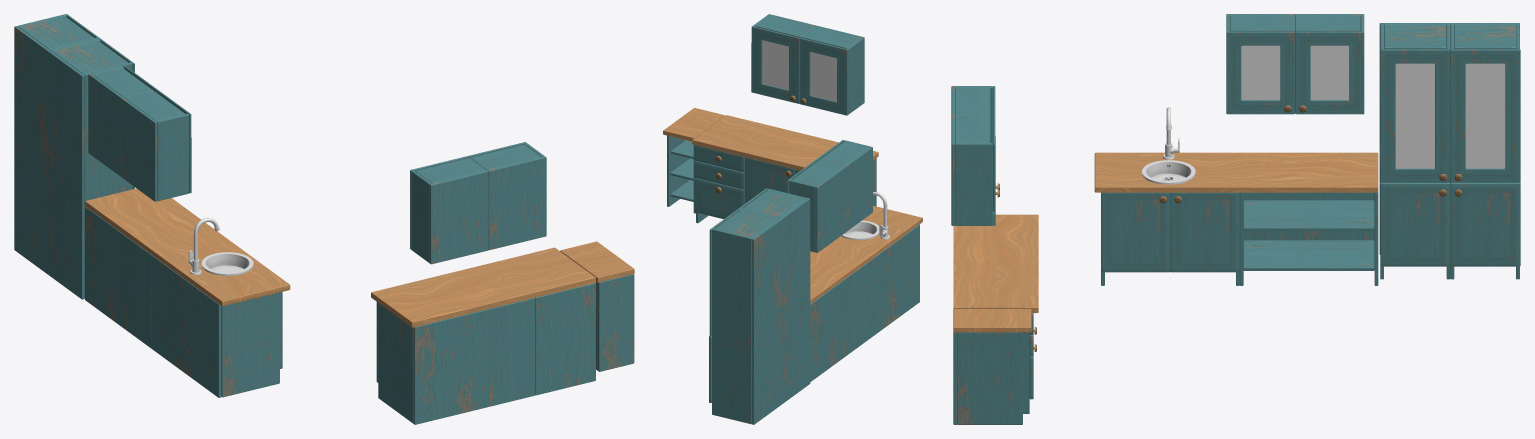
The model's file is Kitchen.fbx.
3 renders of one model, left to right at view 1: azimuth 30°, elevation 25°; view 2: azimuth 150°, elevation 25°; view 3: azimuth 270°, elevation 25°, orthographic. The views are drawn at different scales.
Visible parts, largest first — view 1: Cabinet_FrontA.005, CabinetTable_A.004, Cabinet_Shelf_D.003, Cabinet_FrontGlass_A.001, Cabinet_FrontGlass_A.006, Cabinet_Side_B.013; view 2: Cabinet_Shelf_D.003, CabinetTable_A.004, Cabinet_FrontA.005, Cabinet_FrontGlass_A.001, Cabinet_FrontGlass_A.006, Cabinet_Side_B.013; view 3: Cabinet_Shelf_D.003, CabinetTable_A.004, Cabinet_FrontGlass_A.006, Cabinet_FrontA.005, Cabinet_Side_B.013, Cabinet_FrontGlass_A.001.
Boxes of the visible parts, x1,y1,x2,y2 form: Cabinet_FrontA.005: (371,247,595,424); CabinetTable_A.004: (85,188,290,397); Cabinet_Shelf_D.003: (14,14,134,299); Cabinet_FrontGlass_A.001: (410,142,546,264); Cabinet_FrontGlass_A.006: (88,65,191,201); Cabinet_Side_B.013: (560,241,634,371); Cabinet_Shelf_D.003: (709,188,810,424); CabinetTable_A.004: (810,192,922,381); Cabinet_FrontA.005: (692,115,878,223); Cabinet_FrontGlass_A.001: (751,14,864,115); Cabinet_FrontGlass_A.006: (787,140,872,252); Cabinet_Side_B.013: (663,108,724,213); Cabinet_Shelf_D.003: (1379,23,1520,279); CabinetTable_A.004: (1094,107,1378,285); Cabinet_FrontGlass_A.006: (1226,14,1364,114); Cabinet_FrontA.005: (953,214,1038,413); Cabinet_Side_B.013: (953,309,1031,424); Cabinet_FrontGlass_A.001: (951,86,999,225).
Size of the model in its own units: 4.73 by 6.49 by 3.08.
3 materials, 2 textured.
